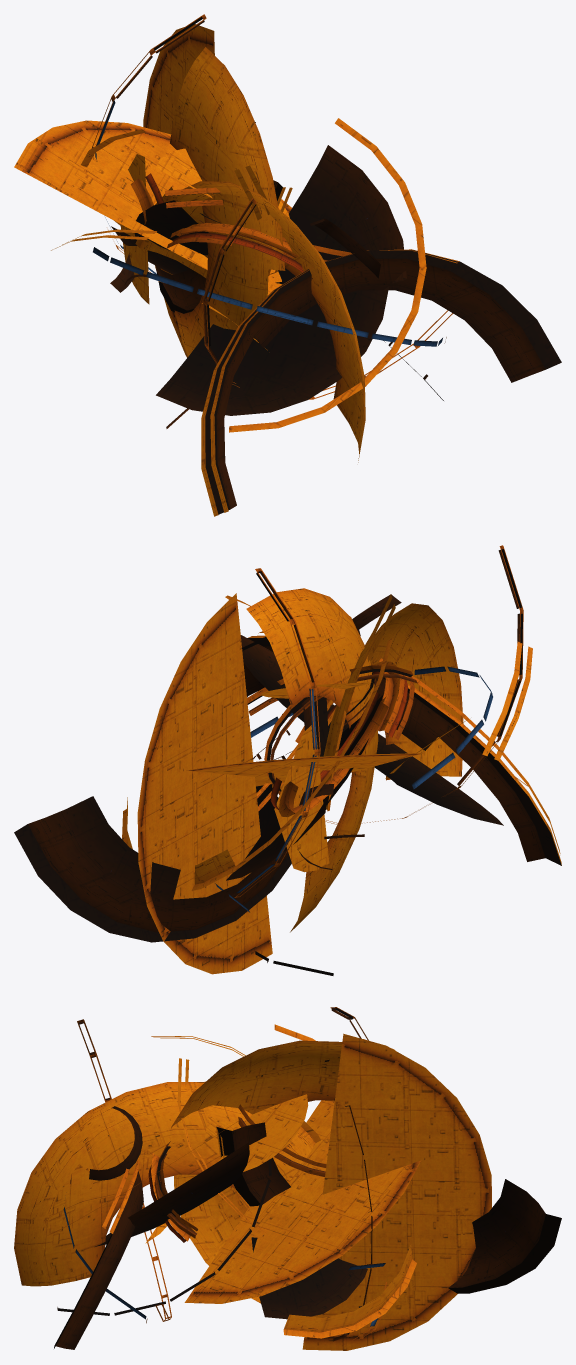
File: MonsterB_Die7.obj
3 views of the same model, one above another, from view 1: azimuth 30°, elevation 25°; view 2: azimuth 150°, elevation 25°; view 3: azimuth 270°, elevation 25° (orthographic). The views are drawn at different scales.
Parts seen in each view (by area): view 1: Sphere001; view 2: Sphere001; view 3: Sphere001.
Boxes of the visible parts, left/top/right/bottom form: Sphere001: left=14, top=14, right=561, bottom=516; Sphere001: left=14, top=545, right=561, bottom=975; Sphere001: left=14, top=1007, right=561, bottom=1350.
Bounding box in the file's own units: 231 × 217 × 308.
Materials: 1 (1 with a texture image).
